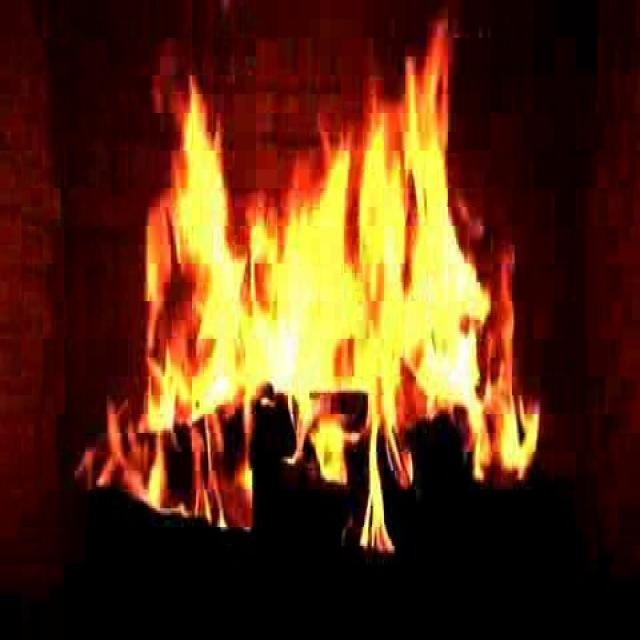smoke: (109, 40, 517, 520)
